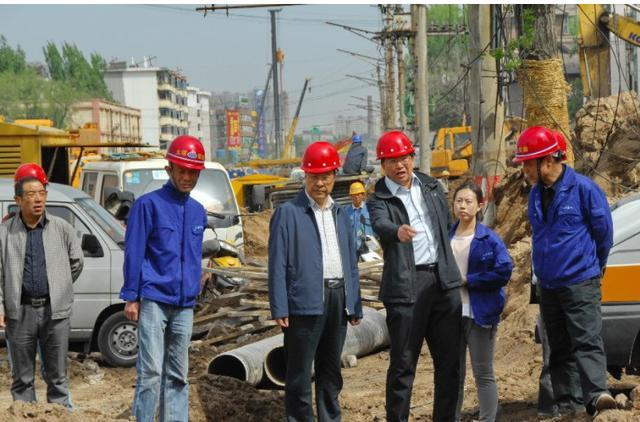helmet: (514, 130, 564, 167), (167, 135, 207, 174), (300, 142, 342, 175), (378, 132, 417, 163), (15, 164, 49, 188), (352, 133, 368, 150), (351, 183, 368, 196)
